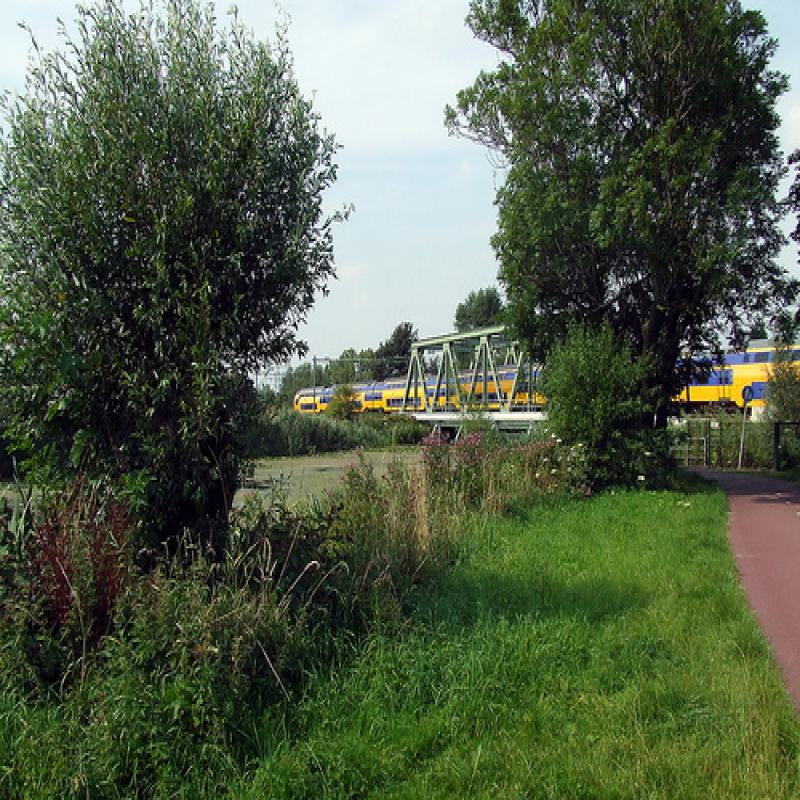train: (294, 338, 799, 413)
